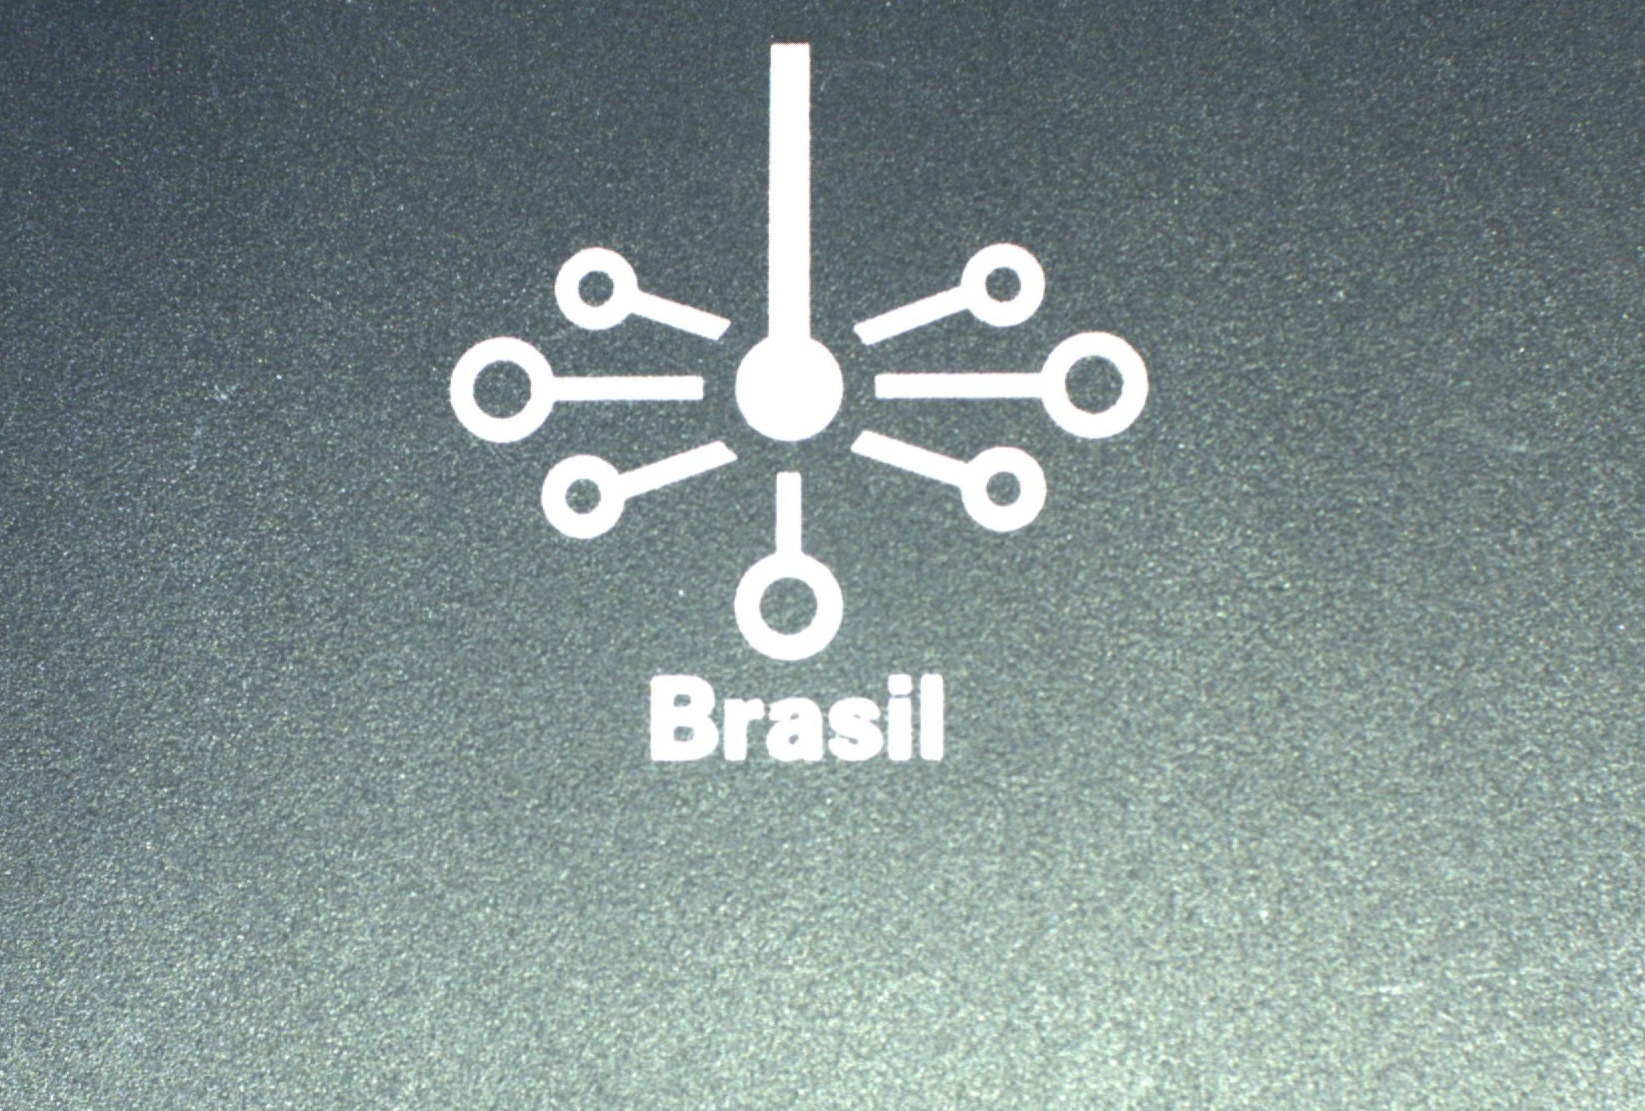BO_Brsail: (403, 29, 1164, 772)
